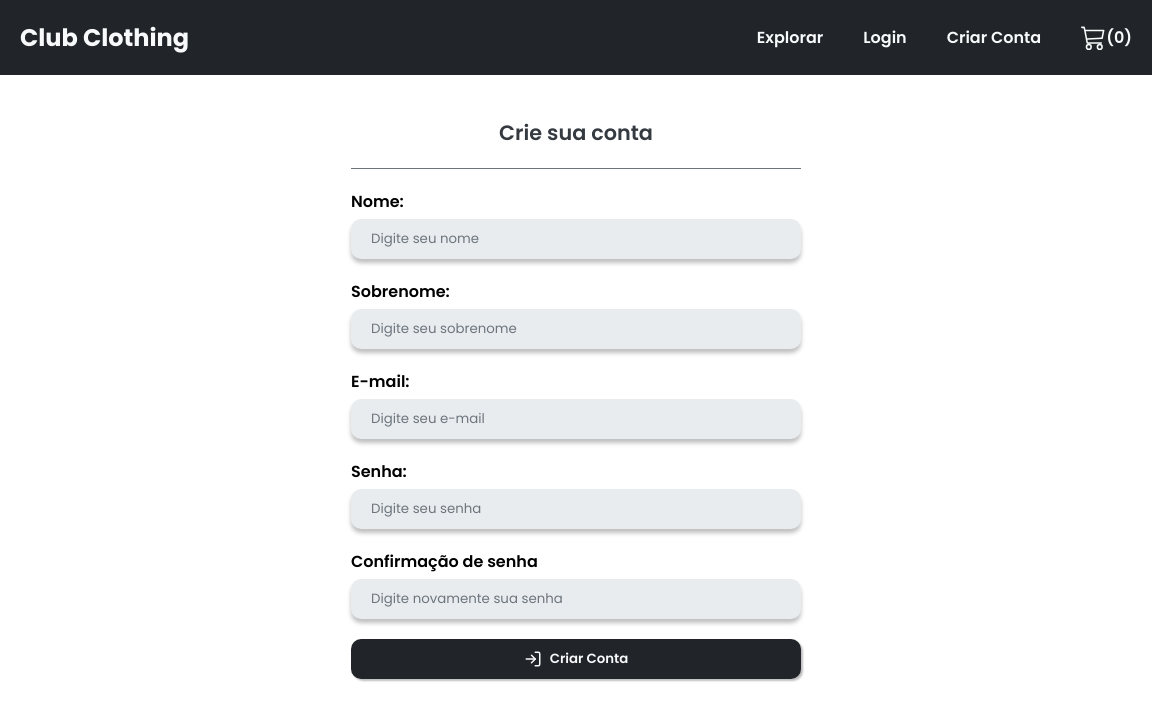
Test: Sign Up › should show errors when trying to submit without filling all required fields
The image size is (1152, 720).
Click the button "Criar Conta".
click(576, 658)  # box [351,638,801,678]
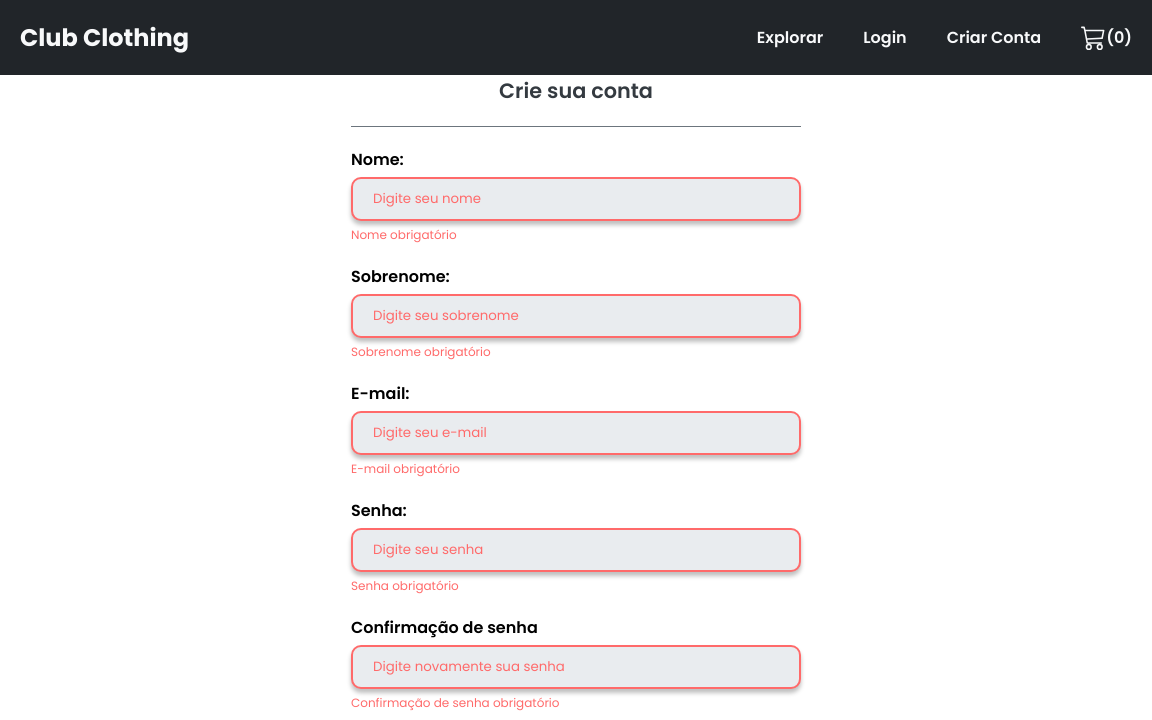
Result: the text "Nome obrigatório" is shown at [351,226,457,243]
Result: the text "Sobrenome obrigatório" is shown at [351,343,491,360]
Result: the text "E-mail obrigatório" is shown at [351,460,460,477]
